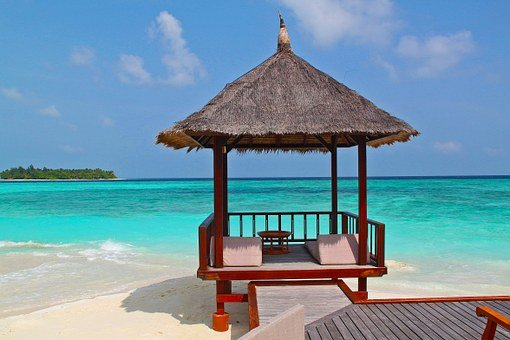beach: (4, 179, 510, 340)
sky: (3, 1, 506, 175)
